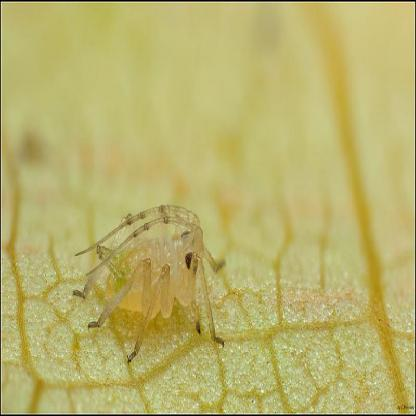aphid: (78, 192, 226, 356)
